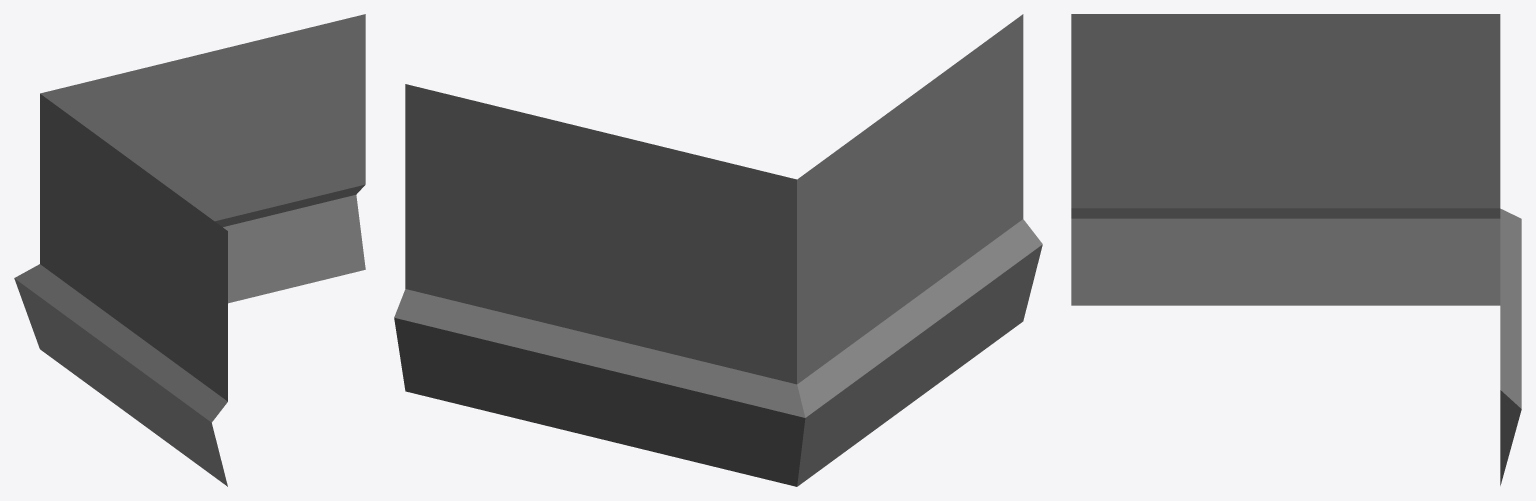
Rendered from q-scifi-mod-wallband-corner-square-inner.glb.
3 views of the same model, side by side, from view 1: azimuth 30°, elevation 25°; view 2: azimuth 150°, elevation 25°; view 3: azimuth 270°, elevation 25° (orthographic). The views are drawn at different scales.
Parts seen in each view (by area): view 1: WallBand_Corner_Square_Inner; view 2: WallBand_Corner_Square_Inner; view 3: WallBand_Corner_Square_Inner.
Part boxes in pixels (x1,y1,x2,y2): WallBand_Corner_Square_Inner: (14,14,365,486); WallBand_Corner_Square_Inner: (394,14,1042,486); WallBand_Corner_Square_Inner: (1071,14,1521,485).
Size of the model in its own units: 4.2 by 3 by 4.2.
Materials: 3 (3 with a texture image).
